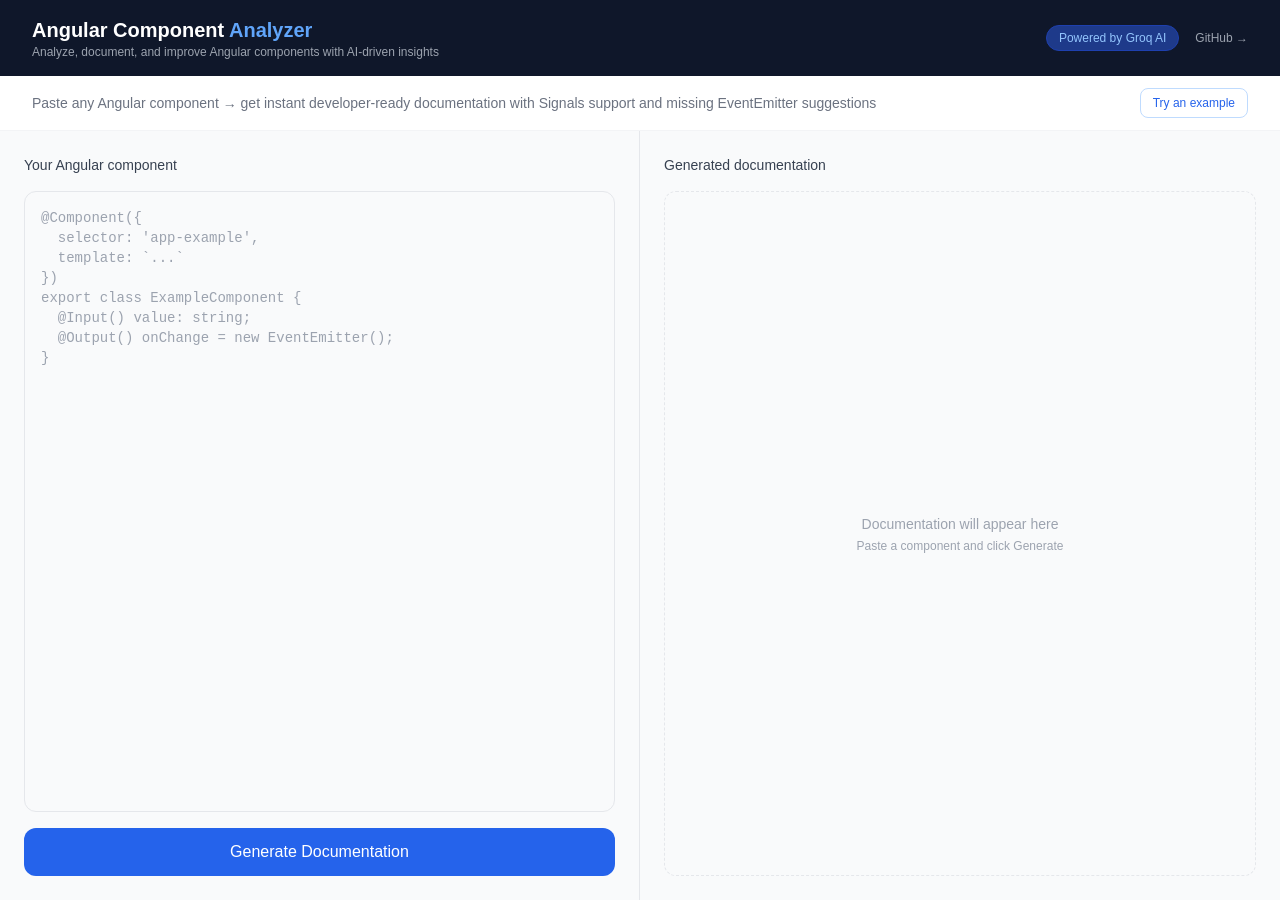
Angular Component Analyzer › shows error when textarea is empty
This screenshot has width=1280, height=900.
Click the button "Generate Documentation" at (320, 852), box [24,828,615,876]
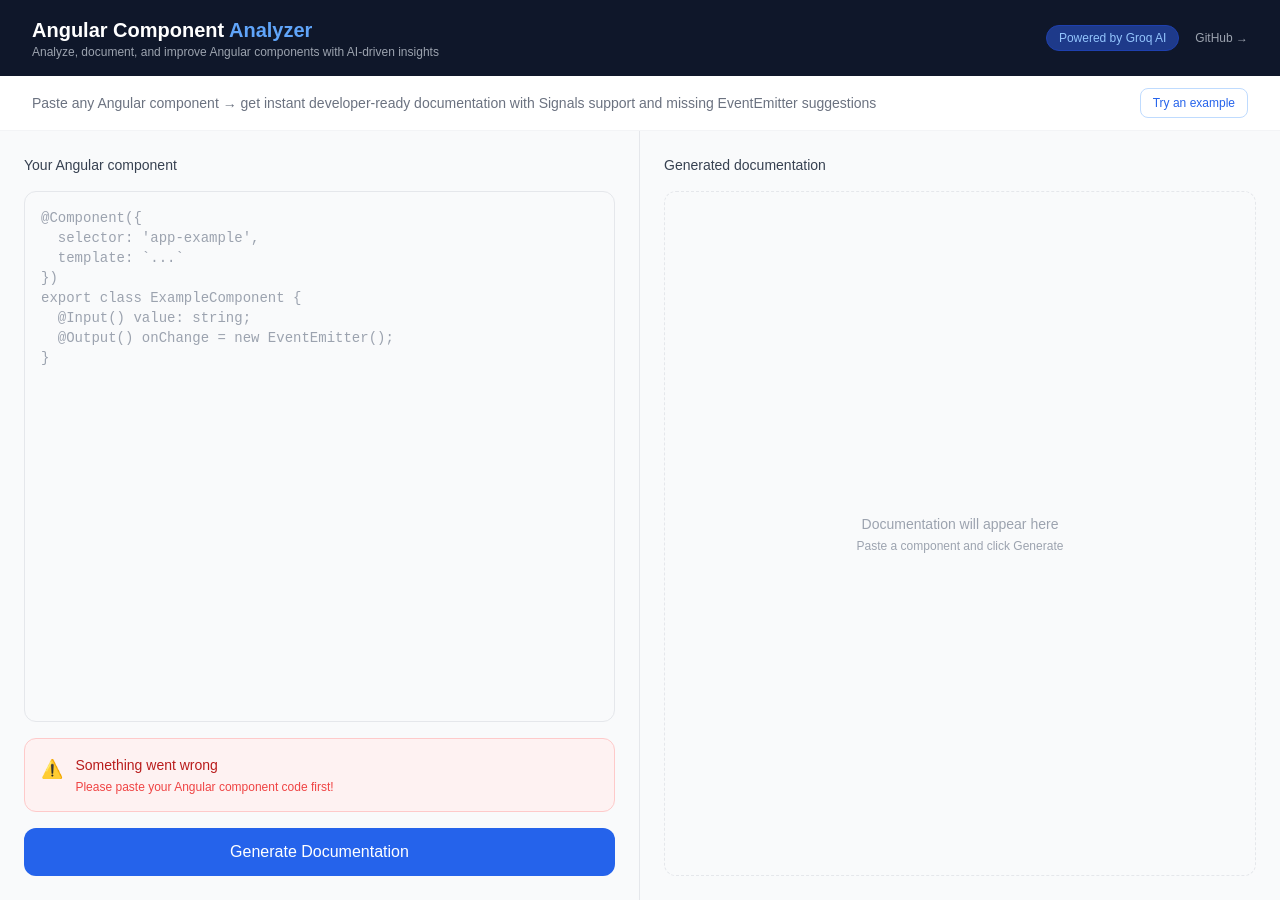
Expected: the text "Please paste your Angular component code first!" is shown, [76,779,334,795]
